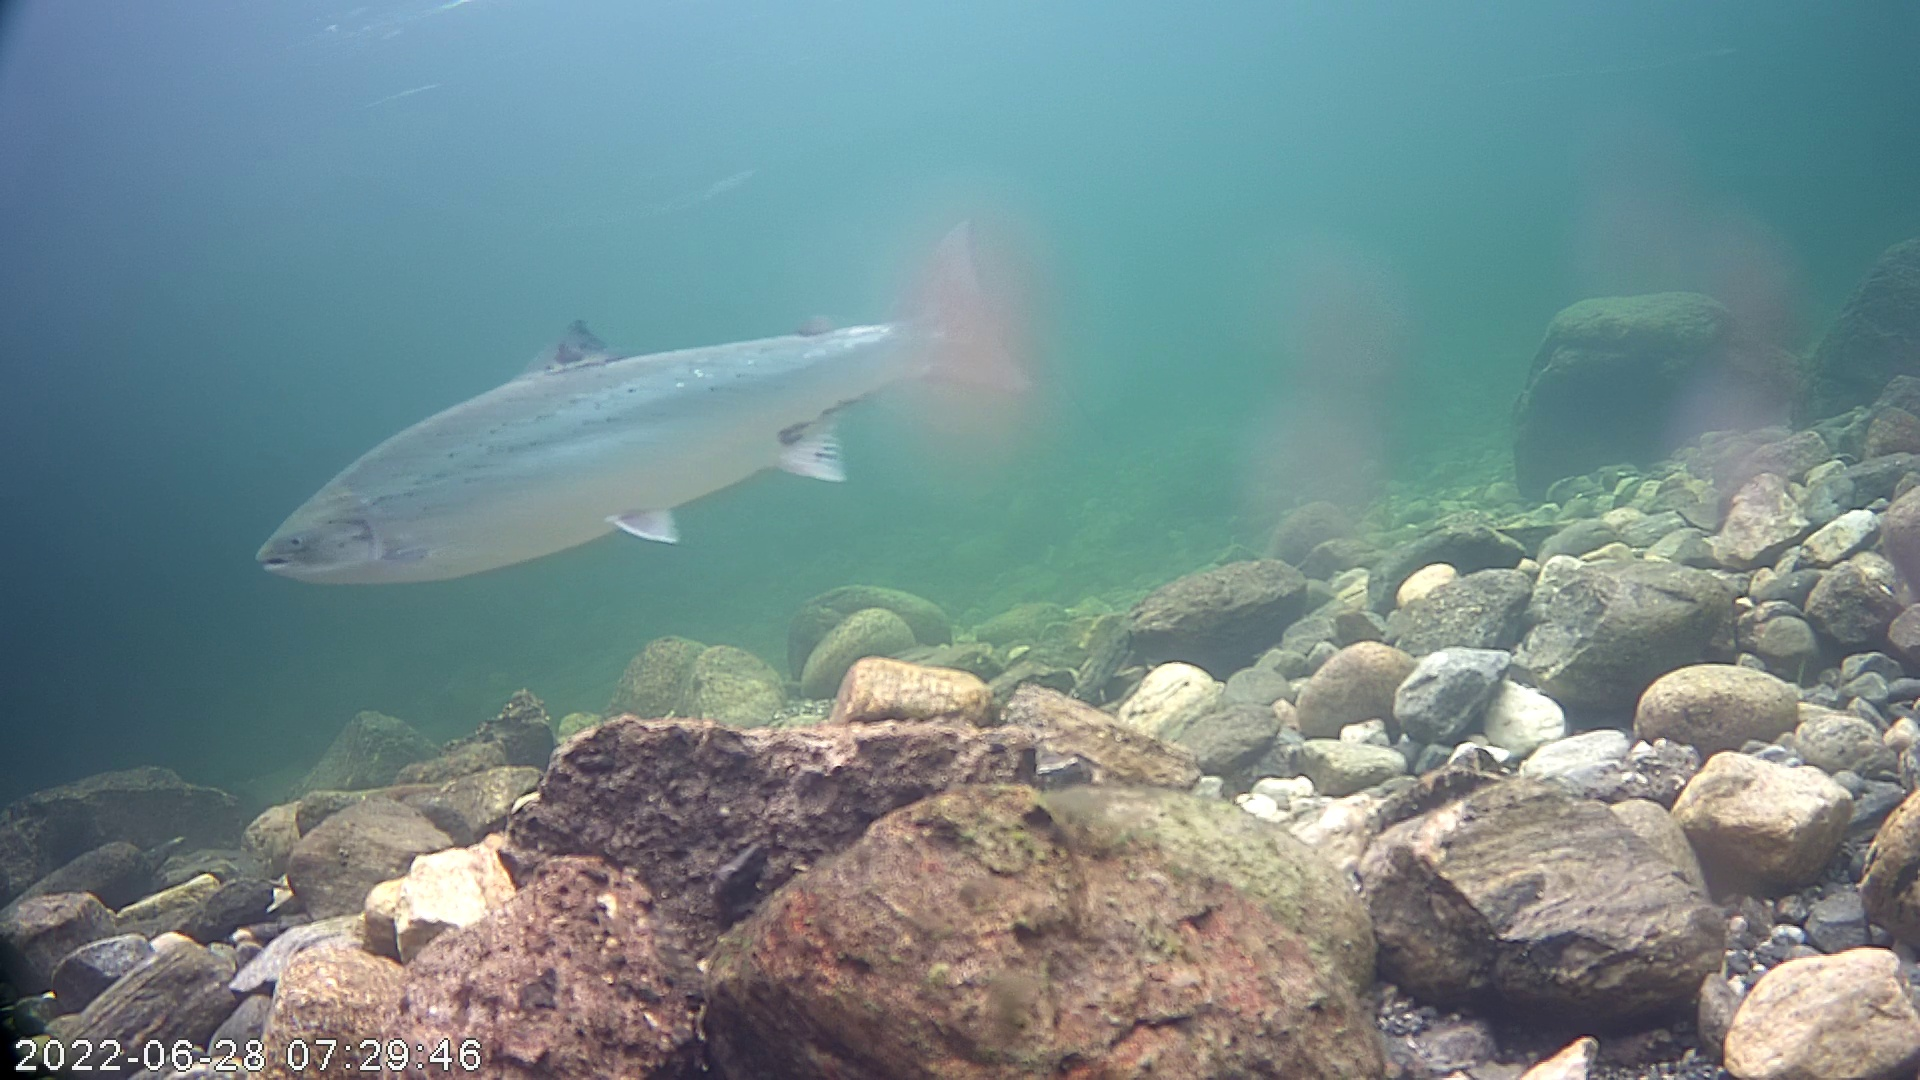salmon: (244, 191, 1059, 630)
